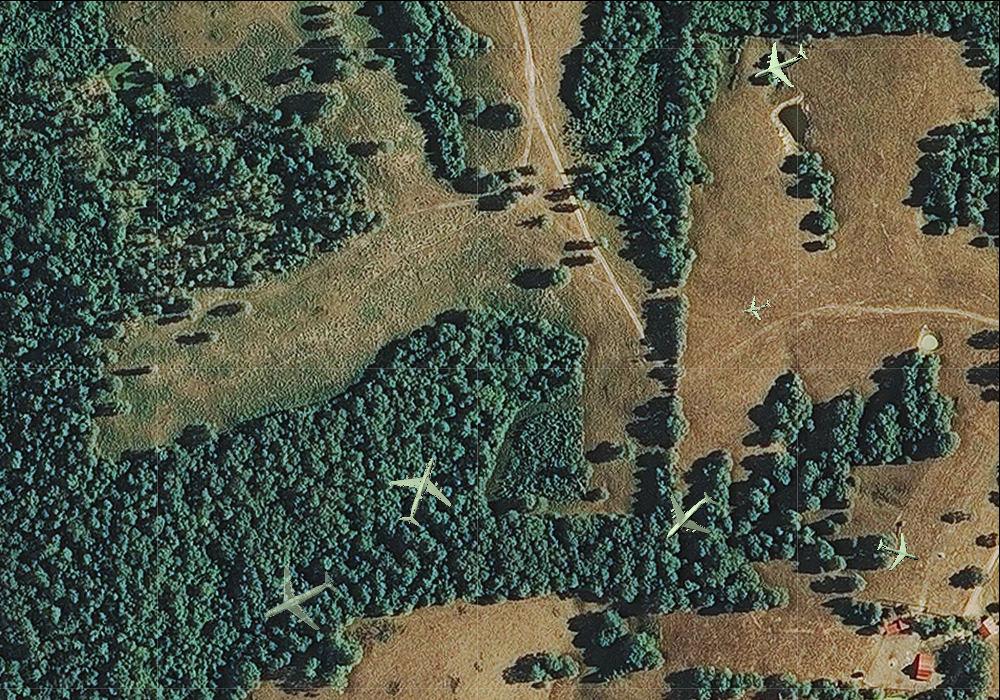plane: (246, 548, 350, 649), (377, 446, 464, 536), (647, 474, 731, 559), (743, 28, 817, 99), (871, 525, 925, 578), (738, 290, 774, 324)
